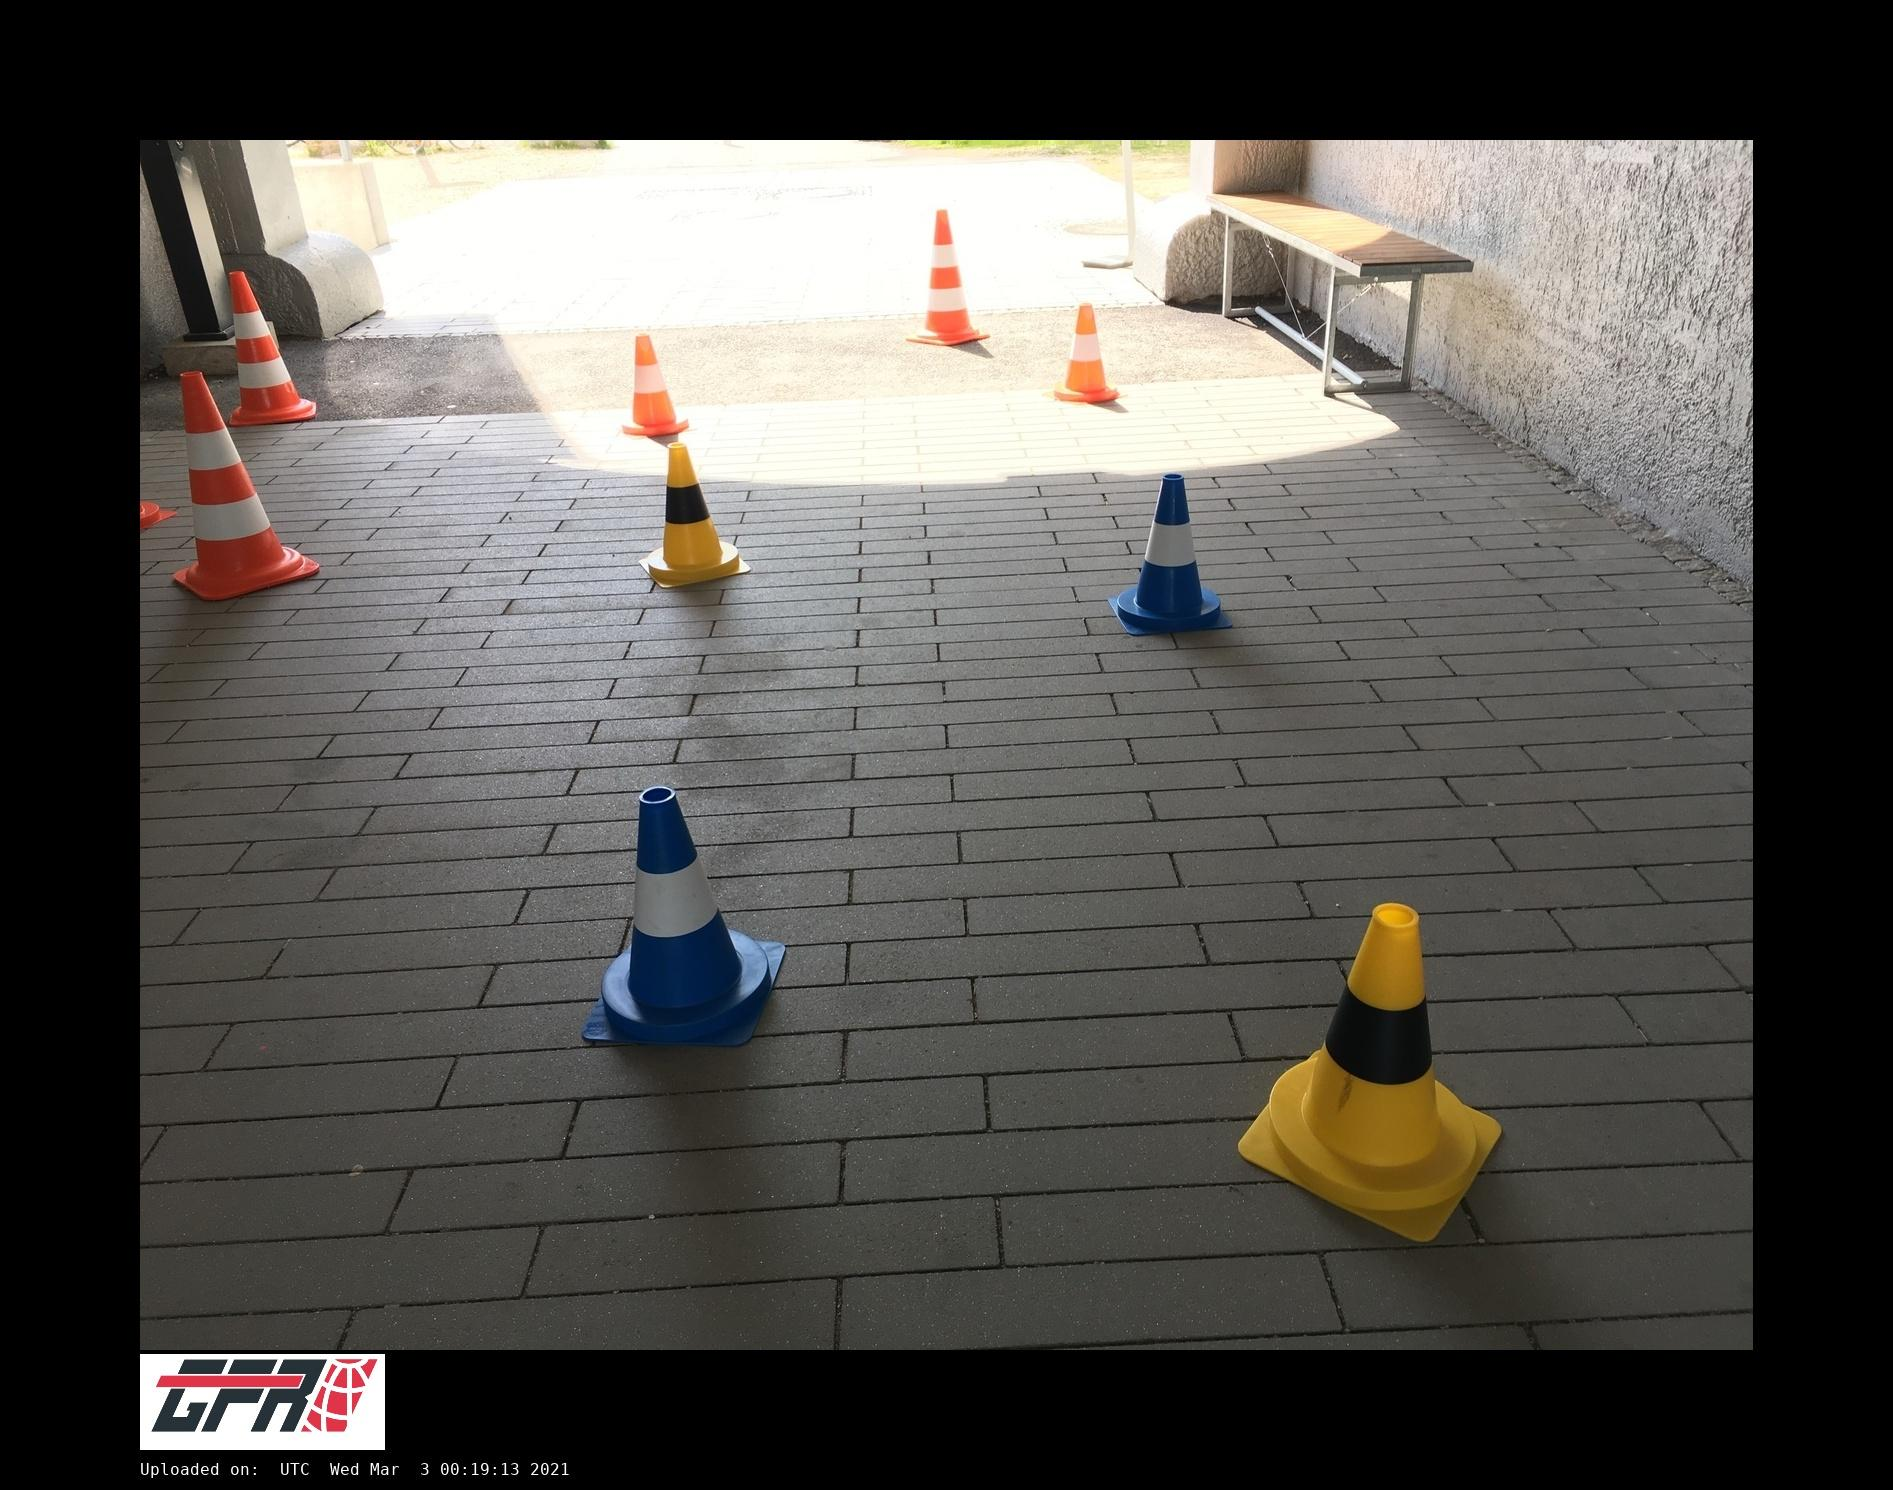blue_cone: (582, 788, 784, 1045), (1112, 475, 1232, 634)
large_orange_cone: (172, 370, 318, 599), (230, 270, 317, 425), (908, 207, 988, 344)
orange_cone: (1046, 303, 1129, 402), (622, 333, 690, 436)
yellow_cone: (1238, 903, 1503, 1241), (641, 442, 751, 587)
